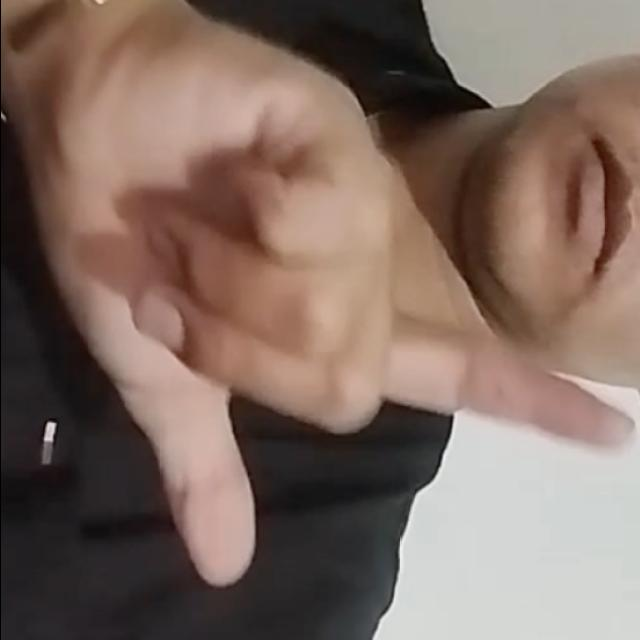LL: (7, 0, 636, 599)
